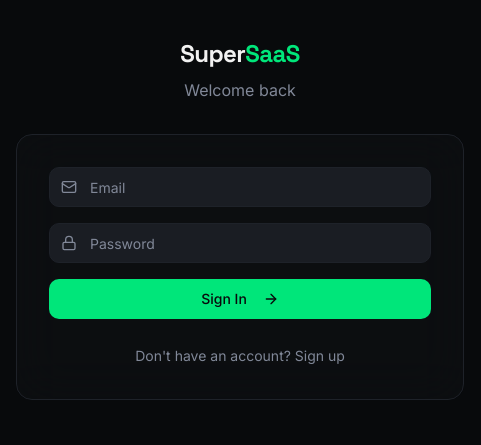
Test: Auth page › sign-up form toggle › shows the full-name field after clicking the toggle
# Click "Don't have an account? Sign up"
Click the button "Don't have an account? Sign up" at [240, 356], box [135, 346, 345, 366]
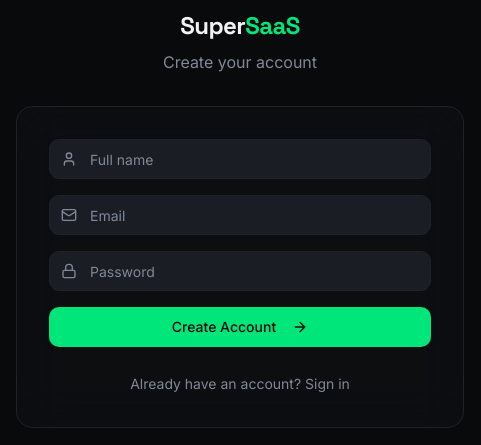
Now the field with placeholder "Full name" is shown, box [49, 139, 431, 179]
